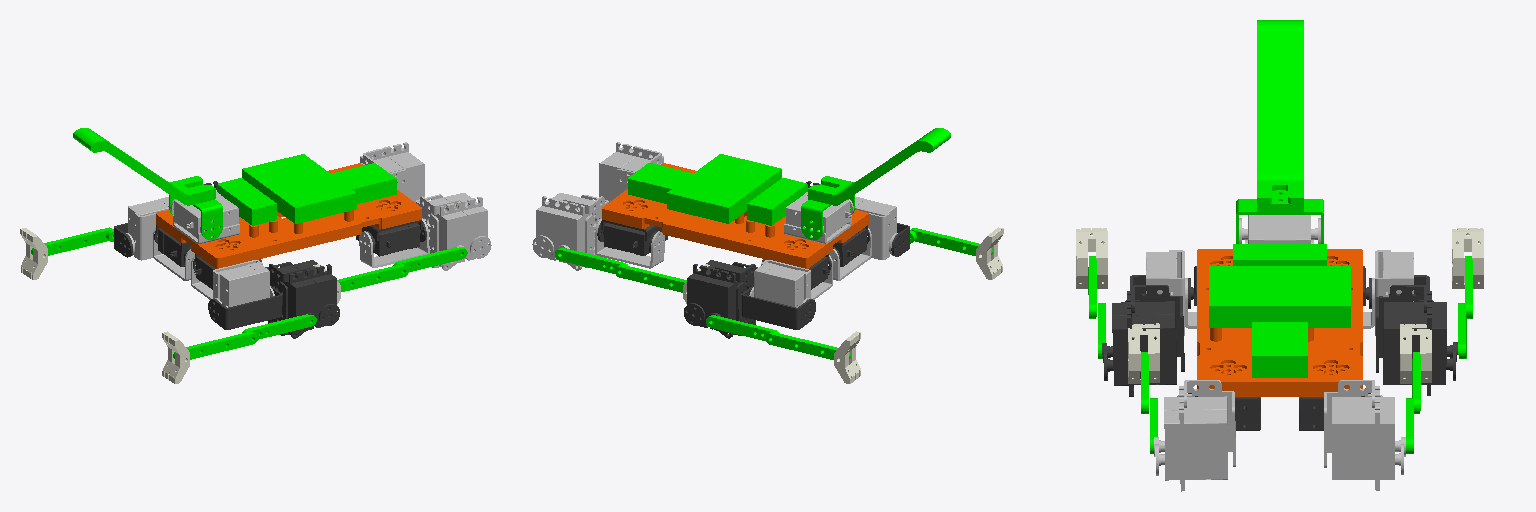
--- What the picture shows (computed from the rendered views, not written in the file) ---
Views: 3 orthographic renders of the robot side by side, from view 1: azimuth 30°, elevation 25°; view 2: azimuth 150°, elevation 25°; view 3: azimuth 270°, elevation 25°.
Robot: stuart — 29 links, 28 joints (15 revolute, 4 continuous, 8 fixed, 1 floating); root link world; default pose: every joint at zero.
Visible links, largest first — view 1: chassis, motorRR3, pi, motorFR2, tail, motorRR2, motorRL2, motorFL2, servodriver, tailmotor, imu, motorFR1 (+8 smaller); view 2: chassis, motorRL3, pi, motorFL2, tail, motorRL2, motorRR2, motorFR2, servodriver, tailmotor, imu, motorFL1 (+8 smaller); view 3: chassis, tail, pi, motorFR2, motorFL2, motorRR3, motorRL3, imu, tailmotor, servodriver, motorRR2, motorRL2 (+7 smaller).
Link boxes in pixels (x1,y1,x2,y2): chassis: [156, 163, 421, 268]; motorRR3: [208, 260, 339, 338]; pi: [242, 154, 356, 223]; motorFR2: [359, 193, 491, 270]; tail: [73, 128, 222, 239]; motorRR2: [191, 255, 274, 307]; motorRL2: [125, 197, 194, 280]; motorFL2: [360, 142, 424, 202]; servodriver: [217, 178, 276, 225]; tailmotor: [170, 192, 239, 243]; imu: [331, 163, 396, 203]; motorFR1: [356, 220, 426, 256]; chassis: [602, 163, 868, 268]; motorRL3: [684, 260, 815, 338]; pi: [667, 154, 781, 223]; motorFL2: [532, 193, 664, 270]; tail: [801, 128, 950, 239]; motorRL2: [749, 255, 832, 307]; motorRR2: [829, 197, 897, 280]; motorFR2: [599, 142, 663, 201]; servodriver: [747, 178, 807, 225]; tailmotor: [784, 192, 853, 243]; imu: [628, 163, 692, 203]; motorFL1: [597, 220, 667, 255]; chassis: [1197, 249, 1362, 396]; tail: [1236, 20, 1323, 243]; pi: [1209, 266, 1350, 327]; motorFR2: [1154, 380, 1235, 491]; motorFL2: [1324, 380, 1405, 490]; motorRR3: [1102, 275, 1184, 396]; motorRL3: [1376, 275, 1457, 395]; imu: [1252, 322, 1307, 377]; tailmotor: [1239, 215, 1320, 243]; servodriver: [1233, 244, 1326, 265]; motorRR2: [1146, 250, 1196, 335]; motorRL2: [1363, 250, 1413, 335].
Bounding box of the posed robot: 0.3518 × 0.2591 × 0.181 m (x, y, z).
Meshes: 16 distinct files referenced, 25 mesh visuals loaded (16 binary STL).

The robot description file, URDF, robot "stuart":
<?xml version="1.0" ?>

<robot name="stuart" xmlns:xacro="http://wiki.ros.org/xacro">

  <material name="grey">
    <color rgba="0.5 0.5 0.5 1"/>
  </material>
  <material name="dark_grey">
    <color rgba="0.3 0.3 0.3 1"/>
  </material>
  <material name="red">
    <color rgba="1.0 0.0 0.0 1"/>
  </material>
  <material name="green">
    <color rgba="0.0 1.0 0.0 1"/>
  </material>
  <material name="black">
    <color rgba="0.1 0.1 0.1 1"/>
  </material>
  <material name="light_grey">
    <color rgba="0.8 0.8 0.8 1"/>
  </material>
  <material name="blue">
    <color rgba="0.0 0.0 0.8 1.0"/>
  </material>
  <material name="silver">
    <color rgba="0.913725490196 0.913725490196 0.847058823529 1.0"/>
  </material>
  <material name="orange">
    <color rgba="1.0 0.423529411765 0.0392156862745 1.0"/>
  </material>
  <material name="brown">
    <color rgba="0.870588235294 0.811764705882 0.764705882353 1.0"/>
  </material>
  <material name="white">
    <color rgba="1.0 1.0 1.0 1.0"/>
  </material>

  <link name="world"/>
   <joint name="reference" type="floating">
     <origin xyz="0.0 0.0 0.2"/>
     <parent link="world"/>
     <child link="chassis"/>
   </joint>

  <link name="chassis">
    <visual>
      <origin rpy="0 0 0" xyz="0 0 0"/>
      <geometry>
        <mesh filename="package://stuart_urdf/meshes/chassis2.stl" scale="0.001 0.001 0.001"/>
      </geometry>
      <material name="orange"/>
    </visual>
    <collision>
      <origin rpy="0 0 0" xyz="0 0 0"/>
      <geometry>
        <box size="0.2 0.105 0.01"/>
      </geometry>
    </collision>
    <inertial>
      <origin rpy="0 0 0" xyz="0 0 0"/>
      <mass value="0.194565"/>
      <inertia ixx="0.00019053" ixy="-0.000000852" ixz="0.000000168" iyy="0.00085284" iyz="0.000000195" izz="0.00066626"/>
    </inertial>
  </link>

  <link name="motorFL1">
    <visual>
      <origin rpy="0 0 0" xyz="0 0 0"/>
      <geometry>
	<mesh filename="package://stuart_urdf/meshes/frontleftrollmotor.stl" scale="0.001 0.001 0.001"/>
      </geometry>
      <material name="dark_grey"/>
    </visual>
    <collision>
      <origin rpy="0 0 0" xyz="0 0 0"/>
      <geometry>
	<box size="0.04 0.04 0.02"/>
      </geometry>
    </collision>
    <inertial>
      <origin rpy="0 0 0" xyz="0 0 0"/>
      <mass value="0.069"/>
      <inertia ixx="0.000014153" ixy="0.00000002316" ixz="0.00000001739" iyy="0.000019823" iyz="0.00000000178" izz="0.000012751"/>
    </inertial>
  </link>

  <link name="motorFR1">
    <visual>
      <origin rpy="0 0 0" xyz="0 0 0"/>
      <geometry>
	<mesh filename="package://stuart_urdf/meshes/frontrightrollmotor.stl" scale="0.001 0.001 0.001"/>
      </geometry>
      <material name="dark_grey"/>
    </visual>
    <collision>
      <origin rpy="0 0 0" xyz="0 0 0"/>
      <geometry>
	<box size="0.04 0.04 0.02"/>
      </geometry>
    </collision>
    <inertial>
      <origin rpy="0 0 0" xyz="0 0 0"/>
      <mass value="0.069"/>
      <inertia ixx="0.000014153" ixy="0.00000002316" ixz="0.00000001739" iyy="0.000019823" iyz="0.00000000178" izz="0.000012751"/>
    </inertial>
  </link>

  <link name="motorRL1">
    <visual>
      <origin rpy="0 0 0" xyz="0 0 0"/>
      <geometry>
	<mesh filename="package://stuart_urdf/meshes/rearlefthipmotor.stl" scale="0.001 0.001 0.001"/>
      </geometry>
      <material name="dark_grey"/>
    </visual>
    <collision>
      <origin rpy="0 0 0" xyz="0 0 0"/>
      <geometry>
	<box size="0.04 0.04 0.02"/>
      </geometry>
    </collision>
    <inertial>
      <origin rpy="0 0 0" xyz="0 0 0"/>
      <mass value="0.069"/>
      <inertia ixx="0.000014153" ixy="0.00000002316" ixz="0.00000001739" iyy="0.000019823" iyz="0.00000000178" izz="0.000012751"/>
    </inertial>
  </link>

  <link name="motorRR1">
    <visual>
      <origin rpy="0 0 0" xyz="0 0 0"/>
      <geometry>
	<mesh filename="package://stuart_urdf/meshes/rearrighthipmotor.stl" scale="0.001 0.001 0.001"/>
      </geometry>
      <material name="dark_grey"/>
    </visual>
    <collision>
      <origin rpy="0 0 0" xyz="0 0 0"/>
      <geometry>
	<box size="0.04 0.04 0.02"/>
      </geometry>
    </collision>
    <inertial>
      <origin rpy="0 0 0" xyz="0 0 0"/>
      <mass value="0.069"/>
      <inertia ixx="0.000014153" ixy="0.00000002316" ixz="0.00000001739" iyy="0.000019823" iyz="0.00000000178" izz="0.000012751"/>
    </inertial>
  </link>

  <joint name="chassis_motorFL" type="fixed">
    <parent link="chassis"/>
    <child link="motorFL1"/>
    <origin rpy="0 0 0" xyz="0.0808 0.0388 -0.0203"/>
    <axis xyz="0 0 0"/>
    <dynamics damping="0" friction="0"/>
    <limit effort="100" velocity="100"/>
  </joint>
  <joint name="chassis_motorFR" type="fixed">
    <parent link="chassis"/>
    <child link="motorFR1"/>
    <origin rpy="0 0 0" xyz="0.0808 -0.0388 -0.0203"/>
    <axis xyz="0 0 0"/>
    <dynamics damping="0" friction="0"/>
    <limit effort="100" velocity="100"/>
  </joint>
  <joint name="chassis_motorRL" type="fixed">
    <parent link="chassis"/>
    <child link="motorRL1"/>
    <origin rpy="0 0 0" xyz="-0.0792 0.0308 -0.0203"/>
    <axis xyz="0 0 0"/>
    <dynamics damping="0" friction="0"/>
    <limit effort="100" velocity="100"/>
  </joint>
  <joint name="chassis_motorRR" type="fixed">
    <parent link="chassis"/>
    <child link="motorRR1"/>
    <origin rpy="0 0 0" xyz="-0.0792 -0.0308 -0.0203"/>
    <axis xyz="0 0 0"/>
    <dynamics damping="0" friction="0"/>
    <limit effort="100" velocity="100"/>
  </joint>

  <link name="motorRL2">
    <visual>
      <origin rpy="0 0 0" xyz="-0.0015 0 -0.006"/>
      <geometry>
	<mesh filename="package://stuart_urdf/meshes/rearleftrollmotor.stl" scale="0.001 0.001 0.001"/>
      </geometry>
      <material name="light_grey"/>
    </visual>
    <collision>
      <origin rpy="0 0 0" xyz="-0.0015 0 -0.006"/>
      <geometry>
	<box size="0.04 0.04 0.04"/>
      </geometry>
    </collision>
    <inertial>
      <origin rpy="0 0 0" xyz="0 0 0"/>
      <mass value="0.083"/>
      <inertia ixx="0.000041991" ixy="0.00000004145" ixz="0.00000020355" iyy="0.00004143481" iyz="0.000004644" izz="0.0000226676"/>
    </inertial>
  </link>

  <link name="motorRR2">
    <visual>
      <origin rpy="0 0 0" xyz="-0.0015 0 -0.006"/>
      <geometry>
	<mesh filename="package://stuart_urdf/meshes/rearrightrollmotor.stl" scale="0.001 0.001 0.001"/>
      </geometry>
      <material name="light_grey"/>
    </visual>
    <collision>
      <origin rpy="0 0 0" xyz="-0.0015 0 -0.006"/>
      <geometry>
	<box size="0.04 0.04 0.04"/>
      </geometry>
    </collision>
    <inertial>
      <origin rpy="0 0 0" xyz="0 0 0"/>
      <mass value="0.083"/>
      <inertia ixx="0.000041991" ixy="0.00000004145" ixz="0.00000020355" iyy="0.00004143481" iyz="0.000004644" izz="0.0000226676"/>
    </inertial>
  </link>

  <joint name="motorRL1_motorRL2" type="revolute">
    <parent link="motorRL1"/>
    <child link="motorRL2"/>
    <origin rpy="0 0 0" xyz="-0.0035 0.035 -0.002"/> <!-- 0.04 + bracket distance -->
    <axis xyz="0 1 0"/>
    <dynamics damping="0" friction="0"/>
    <limit effort="100" lower="-3.14" upper="3.14" velocity="100"/>
  </joint>
  <joint name="motorRR1_motorRR2" type="revolute">
    <parent link="motorRR1"/>
    <child link="motorRR2"/>
    <origin rpy="0 0 0" xyz="-0.0035 -0.035 -0.002"/>
    <axis xyz="0 1 0"/>
    <dynamics damping="0" friction="0"/>
    <limit effort="100" lower="-3.14" upper="3.14" velocity="100"/>
  </joint>



  <link name="motorRL3">
    <visual>
      <origin rpy="0 0 0" xyz="0 0.012 -0.0025"/>
      <geometry>
	<mesh filename="package://stuart_urdf/meshes/rearleftpitchmotor.stl" scale="0.001 0.001 0.001"/>
      </geometry>
      <material name="dark_grey"/>
    </visual>
    <collision>
      <origin rpy="0 0 0" xyz="0 0.012 -0.0025"/>
      <geometry>
	<box size="0.07 0.04 0.04"/>
      </geometry>
    </collision>
    <inertial>
      <origin rpy="0 0 0" xyz="0 0 0"/>
      <mass value="0.145"/>
      <mass value="0.145"/>
      <inertia ixx="0.00004257" ixy="-0.00000194" ixz="0.00000235" iyy="0.00008310" iyz="-0.00000021" izz="0.00008385"/>
    </inertial>
  </link>

  <link name="motorRR3">
    <visual>
      <origin rpy="0 0 0" xyz="0 -0.012 -0.0025"/>
      <geometry>
	<mesh filename="package://stuart_urdf/meshes/rearrightpitchmotor.stl" scale="0.001 0.001 0.001"/>
      </geometry>
      <material name="dark_grey"/>
    </visual>
    <collision>
      <origin rpy="0 0 0" xyz="0 -0.012 -0.0025"/>
      <geometry>
	<box size="0.07 0.04 0.04"/>
      </geometry>
    </collision>
    <inertial>
      <origin rpy="0 0 0" xyz="0 0 0"/>
      <mass value="0.145"/>
      <mass value="0.145"/>
      <inertia ixx="0.00004257" ixy="-0.00000194" ixz="0.00000235" iyy="0.00008310" iyz="-0.00000021" izz="0.00008385"/>
    </inertial>
  </link>

  <joint name="motorRL2_motorRL3" type="revolute">
    <parent link="motorRL2"/>
    <child link="motorRL3"/>
    <origin rpy="0 0 0" xyz="0.038 0.0095 -0.01055"/>
    <axis xyz="1 0 0"/>
    <dynamics damping="0" friction="0"/>
    <limit effort="100" lower="-3.14" upper="3.14" velocity="100"/>
  </joint>
  <joint name="motorRR2_motorRR3" type="revolute">
    <parent link="motorRR2"/>
    <child link="motorRR3"/>
    <origin rpy="0 0 0" xyz="0.038 -0.0095 -0.01055"/>
    <axis xyz="1 0 0"/>
    <dynamics damping="0" friction="0"/>
    <limit effort="100" lower="-3.14" upper="3.14" velocity="100"/>
  </joint>


 <link name="motorFL2">
    <visual>
      <origin rpy="0 0 0" xyz="0 0.0122 -0.0023"/>
      <geometry>
	<mesh filename="package://stuart_urdf/meshes/frontleftpitchmotor.stl" scale="0.001 0.001 0.001"/>
      </geometry>
      <material name="light_grey"/>
    </visual>
    <collision>
      <origin rpy="0 0 0" xyz="0 0.0122 -0.0023"/>
      <geometry>
	<box size="0.07 0.04 0.04"/>
      </geometry>
    </collision>
    <inertial>
      <origin rpy="0 0 0" xyz="0 0 0"/>
      <mass value="0.145"/>
      <mass value="0.145"/>
      <inertia ixx="0.00004257" ixy="-0.00000194" ixz="0.00000235" iyy="0.00008310" iyz="-0.00000021" izz="0.00008385"/>
    </inertial>
  </link>

  <link name="motorFR2">
    <visual>
      <origin rpy="0 0 0" xyz="0 -0.0122 -0.0023"/>
      <geometry>
	<mesh filename="package://stuart_urdf/meshes/frontrightpitchmotor.stl" scale="0.001 0.001 0.001"/>
      </geometry>
      <material name="light_grey"/>
    </visual>
    <collision>
      <origin rpy="0 0 0" xyz="0 -0.0122 -0.0023"/>
      <geometry>
	<box size="0.07 0.04 0.04"/>
      </geometry>
    </collision>
    <inertial>
      <origin rpy="0 0 0" xyz="0 0 0"/>
      <mass value="0.145"/>
      <inertia ixx="0.00004257" ixy="-0.00000194" ixz="0.00000235" iyy="0.00008310" iyz="-0.00000021" izz="0.00008385"/>
    </inertial>
  </link>

  <joint name="motorFL1_motorFL2" type="revolute">
    <parent link="motorFL1"/>
    <child link="motorFL2"/>
    <origin rpy="0 0 0" xyz="0.04 0.0034 -0.0021"/>
    <axis xyz="1 0 0"/>
    <dynamics damping="0" friction="0"/>
    <limit effort="100" lower="-3.14" upper="3.14" velocity="100"/>
  </joint>
  <joint name="motorFR1_motorFR2" type="revolute">
    <parent link="motorFR1"/>
    <child link="motorFR2"/>
    <origin rpy="0 0 0" xyz="0.04 -0.0034 -0.0021"/>
    <axis xyz="1 0 0"/>
    <dynamics damping="0" friction="0"/>
    <limit effort="100" lower="-3.14" upper="3.14" velocity="100"/>
  </joint>

<link name="FL_thigh">
    <visual>
      <origin rpy="0 0 0" xyz="-0.0365 0 0"/>
      <geometry>
	<mesh filename="package://stuart_urdf/meshes/thighlink.stl" scale="0.001 0.001 0.001"/>
      </geometry>
      <material name="green"/>
    </visual>
    <collision>
      <origin rpy="0 0 0" xyz="-0.0365 0 0"/>
      <geometry>
	<box size="0.07 0.005 0.01"/>
      </geometry>
    </collision>
    <inertial>
      <origin rpy="0 0 0" xyz="0 0 0"/>
      <mass value="0.0033"/>
      <inertia ixx="0.00000039451" ixy="0.00000054997" ixz="0.00000001431" iyy="0.00000087641" iyz="0.00000000985" izz="0.00000125666"/>
    </inertial>
  </link>

  <link name="FR_thigh">
    <visual>
      <origin rpy="0 0 0" xyz="-0.0365 0 0"/>
      <geometry>
	<mesh filename="package://stuart_urdf/meshes/thighlink.stl" scale="0.001 0.001 0.001"/>
      </geometry>
      <material name="green"/>
    </visual>
    <collision>
      <origin rpy="0 0 0" xyz="-0.0365 0 0"/>
      <geometry>
	<box size="0.07 0.005 0.01"/>
      </geometry>
    </collision>
    <inertial>
      <origin rpy="0 0 0" xyz="0 0 0"/>
      <mass value="0.0033"/>
      <inertia ixx="0.00000039451" ixy="0.00000054997" ixz="0.00000001431" iyy="0.00000087641" iyz="0.00000000985" izz="0.00000125666"/>
    </inertial>
  </link>

  <link name="RL_thigh">
    <visual>
      <origin rpy="0 0 0" xyz="-0.0365 0 0"/>
      <geometry>
	<mesh filename="package://stuart_urdf/meshes/thighlink.stl" scale="0.001 0.001 0.001"/>
      </geometry>
      <material name="green"/>
    </visual>
    <collision>
      <origin rpy="0 0 0" xyz="-0.0365 0 0"/>
      <geometry>
	<box size="0.07 0.005 0.01"/>
      </geometry>
    </collision>
    <inertial>
      <origin rpy="0 0 0" xyz="0 0 0"/>
      <mass value="0.0033"/>
      <inertia ixx="0.00000039451" ixy="0.00000054997" ixz="0.00000001431" iyy="0.00000087641" iyz="0.00000000985" izz="0.00000125666"/>
    </inertial>
  </link>

  <link name="RR_thigh">
    <visual>
      <origin rpy="0 0 0" xyz="-0.0365 0 0"/>
      <geometry>
	<mesh filename="package://stuart_urdf/meshes/thighlink.stl" scale="0.001 0.001 0.001"/>
      </geometry>
      <material name="green"/>
    </visual>
    <collision>
      <origin rpy="0 0 0" xyz="-0.0365 0 0"/>
      <geometry>
	<box size="0.07 0.005 0.01"/>
      </geometry>
    </collision>
    <inertial>
      <origin rpy="0 0 0" xyz="0 0 0"/>
      <mass value="0.0033"/>
      <inertia ixx="0.00000039451" ixy="0.00000054997" ixz="0.00000001431" iyy="0.00000087641" iyz="0.00000000985" izz="0.00000125666"/>
    </inertial>
  </link>

  <joint name="motorFL2_thigh" type="revolute">
    <parent link="motorFL2"/>
    <child link="FL_thigh"/>
    <origin rpy="0 0 0" xyz="0.005 0.039 -0.01"/>
    <axis xyz="0 1 0"/>
    <dynamics damping="0" friction="0"/>
    <limit effort="100" lower="-3.14" upper="3.14" velocity="100"/>
  </joint>
  <joint name="motorFR2_thigh" type="revolute">
    <parent link="motorFR2"/>
    <child link="FR_thigh"/>
    <origin rpy="0 0 0" xyz="0.005 -0.039 -0.01"/>
    <axis xyz="0 1 0"/>
    <dynamics damping="0" friction="0"/>
    <limit effort="100" lower="-3.14" upper="3.14" velocity="100"/>
  </joint>


  <joint name="motorRL3_thigh" type="revolute">
    <parent link="motorRL3"/>
    <child link="RL_thigh"/>
    <origin rpy="0 0 0" xyz="0.005 0.039 -0.01"/>
    <axis xyz="0 1 0"/>
    <dynamics damping="0" friction="0"/>
    <limit effort="100" lower="-3.14" upper="3.14" velocity="100"/>
  </joint>
  <joint name="motorRR3_thigh" type="revolute">
    <parent link="motorRR3"/>
    <child link="RR_thigh"/>
    <origin rpy="0 0 0" xyz="0.005 -0.039 -0.01"/>
    <axis xyz="0 1 0"/>
    <dynamics damping="0" friction="0"/>
    <limit effort="100" lower="-3.14" upper="3.14" velocity="100"/>
  </joint>


  <link name="FL_calf">
    <visual>
      <origin rpy="0 0 0" xyz="-0.036 0 0"/>
      <geometry>
	<mesh filename="package://stuart_urdf/meshes/calflink.stl" scale="0.001 0.001 0.001"/>
      </geometry>
      <material name="green"/>
    </visual>
    <collision>
      <origin rpy="0 0 0" xyz="-0.036 0 0"/>
      <geometry>
	<box size="0.08 0.005 0.01"/>
      </geometry>
    </collision>
    <inertial>
      <origin rpy="0 0 0" xyz="0 0 0"/>
      <mass value="0.00379"/>
      <inertia ixx="0.00000145494" ixy="-0.00000078408" ixz="-0.00000001854" iyy="0.00000047555" iyz="0.00000003408" izz="0.0000019131"/>
    </inertial>
  </link>

  <link name="FR_calf">
    <visual>
      <origin rpy="0 0 0" xyz="-0.036 0 0"/>
      <geometry>
	<mesh filename="package://stuart_urdf/meshes/calflink.stl" scale="0.001 0.001 0.001"/>
      </geometry>
      <material name="green"/>
    </visual>
    <collision>
      <origin rpy="0 0 0" xyz="-0.036 0 0"/>
      <geometry>
	<box size="0.08 0.005 0.01"/>
      </geometry>
    </collision>
    <inertial>
      <origin rpy="0 0 0" xyz="0 0 0"/>
      <mass value="0.00379"/>
      <inertia ixx="0.00000145494" ixy="-0.00000078408" ixz="-0.00000001854" iyy="0.00000047555" iyz="0.00000003408" izz="0.0000019131"/>
    </inertial>
  </link>

  <link name="RL_calf">
    <visual>
      <origin rpy="0 0 0" xyz="-0.036 0 0"/>
      <geometry>
	<mesh filename="package://stuart_urdf/meshes/calflink.stl" scale="0.001 0.001 0.001"/>
      </geometry>
      <material name="green"/>
    </visual>
    <collision>
      <origin rpy="0 0 0" xyz="-0.036 0 0"/>
      <geometry>
	<box size="0.08 0.005 0.01"/>
      </geometry>
    </collision>
    <inertial>
      <origin rpy="0 0 0" xyz="0 0 0"/>
      <mass value="0.00379"/>
      <inertia ixx="0.00000145494" ixy="-0.00000078408" ixz="-0.00000001854" iyy="0.00000047555" iyz="0.00000003408" izz="0.0000019131"/>
    </inertial>
  </link>

  <link name="RR_calf">
    <visual>
      <origin rpy="0 0 0" xyz="-0.036 0 0"/>
      <geometry>
	<mesh filename="package://stuart_urdf/meshes/calflink.stl" scale="0.001 0.001 0.001"/>
      </geometry>
      <material name="green"/>
    </visual>
    <collision>
      <origin rpy="0 0 0" xyz="-0.036 0 0"/>
      <geometry>
	<box size="0.08 0.005 0.01"/>
      </geometry>
    </collision>
    <inertial>
      <origin rpy="0 0 0" xyz="0 0 0"/>
      <mass value="0.00379"/>
      <inertia ixx="0.00000145494" ixy="-0.00000078408" ixz="-0.00000001854" iyy="0.00000047555" iyz="0.00000003408" izz="0.0000019131"/>
    </inertial>
  </link>

  <joint name="FLthigh_calf" type="revolute">
    <parent link="FL_thigh"/>
    <child link="FL_calf"/>
    <origin rpy="0 0 0" xyz="-0.060 0.005 0"/>
    <axis xyz="0 1 0"/>
    <dynamics damping="0" friction="0"/>
    <limit effort="100" lower="-3.14" upper="3.14" velocity="100"/>
  </joint>
  <joint name="FRthigh_calf" type="revolute">
    <parent link="FR_thigh"/>
    <child link="FR_calf"/>
    <origin rpy="0 0 0" xyz="-0.060 -0.005 0"/>
    <axis xyz="0 1 0"/>
    <dynamics damping="0" friction="0"/>
    <limit effort="100" lower="-3.14" upper="3.14" velocity="100"/>
  </joint>
  <joint name="RLthigh_calf" type="revolute">
    <parent link="RL_thigh"/>
    <child link="RL_calf"/>
    <origin rpy="0 0 0" xyz="-0.060 0.005 0"/>
    <axis xyz="0 1 0"/>
    <dynamics damping="0" friction="0"/>
    <limit effort="100" lower="-3.14" upper="3.14" velocity="100"/>
  </joint>
  <joint name="RRthigh_calf" type="revolute">
    <parent link="RR_thigh"/>
    <child link="RR_calf"/>
    <origin rpy="0 0 0" xyz="-0.060 -0.005 0"/>
    <axis xyz="0 1 0"/>
    <dynamics damping="0" friction="0"/>
    <limit effort="100" lower="-3.14" upper="3.14" velocity="100"/>
  </joint>




  <link name="FL_foot">
    <visual>
      <origin rpy="0 1.57 0" xyz="-0.0058 0 0"/>
      <geometry>
	<mesh filename="package://stuart_urdf/meshes/foot.stl" scale="0.001 0.001 0.001"/>
      </geometry>
      <material name="silver"/>
    </visual>
    <collision>
      <origin rpy="0 0 0" xyz="-0.0058 0 0"/>
      <geometry>
	<box size="0.015 0.02 0.04"/>
      </geometry>
      <surface>
        <friction>
          <ode>
            <mu>10000.0</mu>
            <mu2>10000.0</mu2>
          </ode>
        </friction>
      </surface>
    </collision>
    <inertial>
      <origin rpy="0 0 0" xyz="0 0 0"/>
      <mass value="0.00566"/>
      <inertia ixx="0.00000031377" ixy="-0.00000007259" ixz="-0.00000000123" iyy="0.00000093881" iyz="-0.00000000347" izz="0.00000079953"/>
    </inertial>
  </link>

  <link name="FR_foot">
    <visual>
      <origin rpy="0 1.57 0" xyz="-0.0058 0 0"/>
      <geometry>
	<mesh filename="package://stuart_urdf/meshes/foot.stl" scale="0.001 0.001 0.001"/>
      </geometry>
      <material name="silver"/>
    </visual>
    <collision>
      <origin rpy="0 0 0" xyz="-0.0058 0 0"/>
      <geometry>
	<box size="0.015 0.02 0.04"/>
      </geometry>
      <surface>
        <friction>
          <ode>
            <mu>10000.0</mu>
            <mu2>10000.0</mu2>
          </ode>
        </friction>
      </surface>
    </collision>
    <inertial>
      <origin rpy="0 0 0" xyz="0 0 0"/>
      <mass value="0.00566"/>
      <inertia ixx="0.00000031377" ixy="-0.00000007259" ixz="-0.00000000123" iyy="0.00000093881" iyz="-0.00000000347" izz="0.00000079953"/>
    </inertial>
  </link>

  <link name="RL_foot">
    <visual>
      <origin rpy="0 1.57 0" xyz="-0.0058 0 0"/>
      <geometry>
	<mesh filename="package://stuart_urdf/meshes/foot.stl" scale="0.001 0.001 0.001"/>
      </geometry>
      <material name="silver"/>
    </visual>
    <collision>
      <origin rpy="0 0 0" xyz="-0.0058 0 0"/>
      <geometry>
	<box size="0.015 0.02 0.04"/>
      </geometry>
      <surface>
        <friction>
          <ode>
            <mu>10000.0</mu>
            <mu2>10000.0</mu2>
          </ode>
        </friction>
      </surface>
    </collision>
    <inertial>
      <origin rpy="0 0 0" xyz="0 0 0"/>
      <mass value="0.00566"/>
      <inertia ixx="0.00000031377" ixy="-0.00000007259" ixz="-0.00000000123" iyy="0.00000093881" iyz="-0.00000000347" izz="0.00000079953"/>
    </inertial>
  </link>

  <link name="RR_foot">
    <visual>
      <origin rpy="0 1.57 0" xyz="-0.0058 0 0"/>
      <geometry>
	<mesh filename="package://stuart_urdf/meshes/foot.stl" scale="0.001 0.001 0.001"/>
      </geometry>
      <material name="silver"/>
    </visual>
    <collision>
      <origin rpy="0 0 0" xyz="-0.0058 0 0"/>
      <geometry>
	<box size="0.015 0.02 0.04"/>
      </geometry>
      <surface>
        <friction>
          <ode>
            <mu>10000.0</mu>
            <mu2>10000.0</mu2>
          </ode>
        </friction>
      </surface>
    </collision>
    <inertial>
      <origin rpy="0 0 0" xyz="0 0 0"/>
      <mass value="0.00566"/>
      <inertia ixx="0.00000031377" ixy="-0.00000007259" ixz="-0.00000000123" iyy="0.00000093881" iyz="-0.00000000347" izz="0.00000079953"/>
    </inertial>
  </link>


  <joint name="FLcalf_foot" type="continuous">
    <parent link="FL_calf"/>
    <child link="FL_foot"/>
    <origin rpy="0 0 0" xyz="-0.0702 0 0"/>
    <axis xyz="0 1 0"/>
    <dynamics damping="0" friction="0"/>
    <limit effort="0" velocity="100"/>
  </joint>
  <joint name="FRcalf_foot" type="continuous">
    <parent link="FR_calf"/>
    <child link="FR_foot"/>
    <origin rpy="0 0 0" xyz="-0.0702 0 0"/>
    <axis xyz="0 1 0"/>
    <dynamics damping="0" friction="0"/>
    <limit effort="0" velocity="100"/>
  </joint>
  <joint name="RLcalf_foot" type="continuous">
    <parent link="RL_calf"/>
    <child link="RL_foot"/>
    <origin rpy="0 0 0" xyz="-0.0702 0 0"/>
    <axis xyz="0 1 0"/>
    <dynamics damping="0" friction="0"/>
    <limit effort="0" velocity="100"/>
  </joint>
  <joint name="RRcalf_foot" type="continuous">
    <parent link="RR_calf"/>
    <child link="RR_foot"/>
    <origin rpy="0 0 0" xyz="-0.0702 0 0"/>
    <axis xyz="0 1 0"/>
    <dynamics damping="0" friction="0"/>
    <limit effort="0" velocity="100"/>
  </joint>





  <link name="tailmotor">
    <visual>
      <origin rpy="0 0 0" xyz="0 0 0"/>
      <geometry>
	<mesh filename="package://stuart_urdf/meshes/tailmotor.stl" scale="0.001 0.001 0.001"/>
      </geometry>
      <material name="light_grey"/>
    </visual>
    <collision>
      <origin rpy="0 0 0" xyz="0 0 0"/>
      <geometry>
	<box size="0.06 0.06 0.06"/>
      </geometry>
    </collision>
    <inertial>
      <origin rpy="0 0 0" xyz="0 0 0"/>
      <mass value="0.069"/>
      <inertia ixx="0.000014153" ixy="0.00000002316" ixz="0.00000001739" iyy="0.000019823" iyz="0.00000000178" izz="0.000012751"/>
    </inertial>
  </link>

  <joint name="chassis_tailmotor" type="fixed">
    <parent link="chassis"/>
    <child link="tailmotor"/>
    <origin rpy="0 0 0" xyz="-0.082 -0.0018 0.0156"/>
  </joint>





  <link name="tail">
    <visual>
      <origin rpy="0 0 0" xyz="-0.0057 0 0.0115"/>
      <geometry>
	<mesh filename="package://stuart_urdf/meshes/taillink.stl" scale="0.001 0.001 0.001"/>
      </geometry>
      <material name="green"/>
    </visual>
    <collision>
      <origin rpy="0 0.55 0" xyz="-0.0807 0 0.0865"/>
      <geometry>
	<box size="0.06 0.04 0.02"/>
      </geometry>
    </collision>
    <inertial>
      <origin rpy="0 0 0" xyz="0 0 0"/>
      <mass value="0.050"/>
      <inertia ixx="0.000047638" ixy="-0.000052094" ixz="0" iyy="0.000087405" iyz="0" izz="0.000115105"/>
    </inertial>
  </link>

  <joint name="tailmotor_tail" type="revolute">
    <parent link="tailmotor"/>
    <child link="tail"/>
    <origin rpy="0 0 0" xyz="-0.0033 0.002 0.0023"/>
    <axis xyz="0 1 0"/>
    <dynamics damping="0" friction="0"/>
    <limit effort="100" lower="-3.14" upper="3.14" velocity="100"/>
  </joint>



  <!--<link name="tail2">
    <visual>
      <origin rpy="0 0.55 0" xyz="-0.0807 0 0.0865"/>
      <geometry>
	<box size="0.06 0.04 0.02"/>
      </geometry>
      <material name="green"/>
    </visual>
    <collision>
      <origin rpy="0 0 0" xyz="0 0 0"/>
      <geometry>
	<box size="0.04 0.04 0.04"/>
      </geometry>
    </collision>
    <inertial>
      <origin rpy="0 0 0" xyz="0.002284 -4.1e-05 0.025165"/>
      <mass value="0.00379"/>
      <inertia ixx="0.073348887" ixy="0.00030338" ixz="0.001918218" iyy="0.250684593" iyz="-7.5402e-05" izz="0.254469458"/>
    </inertial>
  </link>

  <joint name="tailmotor_tail2" type="revolute">
    <parent link="tailmotor"/>
    <child link="tail2"/>
    <origin rpy="0 0 0" xyz="-0.0033 0.002 0.0023"/>
    <axis xyz="0 1 0"/>
    <dynamics damping="0" friction="0"/>
    <limit effort="100" lower="-3.14" upper="3.14" velocity="100"/>
  </joint>-->






  <!--<link name="realsense_assembly">
    <visual>
      <origin rpy="0 0 0" xyz="0 0 0"/>
      <geometry>
	<mesh filename="package://stuart_urdf/meshes/realsenseassembly.stl" scale="0.001 0.001 0.001"/>
      </geometry>
      <material name="silver"/>
    </visual>
    <collision>
      <origin rpy="0 0 0" xyz="0 0 0"/>
      <geometry>
        <box size="0.06 0.09 0.015"/>
      </geometry>
    </collision>
    <inertial>
      <origin rpy="0 0 0" xyz="0 0 0"/>
      <mass value="0.186"/>
      <inertia ixx="0.00001" ixy="0" ixz="0" iyy="0.00001" iyz="0" izz="0.00001"/>
    </inertial>
  </link>
  <joint name="chassis_realsense" type="fixed">
    <parent link="chassis"/>
    <child link="realsense_assembly"/>
    <origin rpy="0 0 0" xyz="0.0375 -0.005 -0.0625"/>
    <axis xyz="0 0 0"/>
    <dynamics damping="0" friction="0"/>
    <limit effort="100" velocity="100"/>
  </joint>-->











  <link name="pi">
    <visual>
      <origin rpy="0 0 0" xyz="0 0 0"/>
      <geometry>
	<box size="0.06 0.09 0.015"/>
      </geometry>
      <material name="green"/>
    </visual>
    <collision>
      <origin rpy="0 0 0" xyz="0 0 0"/>
      <geometry>
        <box size="0.06 0.09 0.015"/>
      </geometry>
    </collision>
    <inertial>
      <origin rpy="0 0 0" xyz="0 0 0"/>
      <mass value="0.045"/>
      <inertia ixx="0.000030425" ixy="0.000000069" ixz="-0.000000262" iyy="0.000041413" iyz="-0.000003133" izz="0.000013178"/>
    </inertial>
  </link>
  <joint name="pi_chassis" type="fixed">
    <parent link="chassis"/>
    <child link="pi"/>
    <origin rpy="0 0 0" xyz="0.015 0 0.0205"/>
    <axis xyz="0 0 0"/>
    <dynamics damping="0" friction="0"/>
    <limit effort="100" velocity="100"/>
  </joint>

  <link name="imu">
    <visual>
      <origin rpy="0 0 0" xyz="0 0 0"/>
      <geometry>
	<box size="0.051 0.036 0.015"/>
      </geometry>
      <material name="green"/>
    </visual>
    <collision>
      <origin rpy="0 0 0" xyz="0 0 0"/>
      <geometry>
        <box size="0.051 0.036 0.015"/>
      </geometry>
    </collision>
    <inertial>
      <origin rpy="0 0 0" xyz="0 0 0"/>
      <mass value="0.05"/>
      <inertia ixx="0.000006443" ixy="0.00000000011" ixz="0.00000000983" iyy="0.000012351" iyz="-00000000004" izz="0.000007814"/>
    </inertial>
  </link>
  <joint name="imu_chassis" type="fixed">
    <parent link="chassis"/>
    <child link="imu"/>
    <origin rpy="0 0 0" xyz="0.07335 0 0.0105"/>
    <axis xyz="0 0 0"/>
    <dynamics damping="0" friction="0"/>
    <limit effort="100" velocity="100"/>
  </joint>

  <link name="servodriver">
    <visual>
      <origin rpy="0 0 0" xyz="0 0 0"/>
      <geometry>
	<box size="0.024 0.06 0.015"/>
      </geometry>
      <material name="green"/>
    </visual>
    <collision>
      <origin rpy="0 0 0" xyz="0 0 0"/>
      <geometry>
        <box size="0.024 0.06 0.015"/>
      </geometry>
    </collision>
    <inertial>
      <origin rpy="0 0 0" xyz="0 0 0"/>
      <mass value="0.009"/>
      <inertia ixx="0.000002606" ixy="-0.000000074" ixz="-0.000000208" iyy="0.000003072" iyz="0.000000135" izz="0.000000648"/>
    </inertial>
  </link>
  <joint name="servodriver_chassis" type="fixed">
    <parent link="chassis"/>
    <child link="servodriver"/>
    <origin rpy="0 0 0" xyz="-0.036 0 0.0205"/>
    <axis xyz="0 0 0"/>
    <dynamics damping="0" friction="0"/>
    <limit effort="100" velocity="100"/>
  </joint>




































  <!--<link name="imu_link">
    <inertial>
      <mass value="0.0 1"/>
      <origin xyz="0 0 0"/>
      <inertia ixx="0.000001" ixy="0" ixz="0" iyy="0.000001" iyz="0" izz="0.000001"/>
    </inertial>
    <visual>
      <origin rpy="0 0 0" xyz="0 0 0"/>
      <geometry>
        <box size="0.01 0.01 0.01"/>
      </geometry>
    </visual>
  </link>
  <joint name="imu_joint" type="fixed">
    <origin rpy="3.14159265359 0 0" xyz="0 0 0"/>
    <parent link="chassis"/>
    <child link="imu_link"/>
  </joint>-->

  <gazebo reference="imu">
    <sensor name="imu" type="imu">
      <always_on>1</always_on>
      <update_rate>500</update_rate>
      <visualize>true</visualize>
      <topic>__default_topic__</topic>
      <imu>

      </imu>
    </sensor>
  </gazebo>
  <!--<gazebo>
    <plugin filename="libGazeboXBotPlugin.so" name="xbot_plugin_handler">
      <path_to_config_file>configs/stuart/configs/stuart.yaml</path_to_config_file>
    </plugin>
  </gazebo>-->
  <origin rpy="0 0 0" xyz="0.0 0.0 0.10"/>



</robot>
